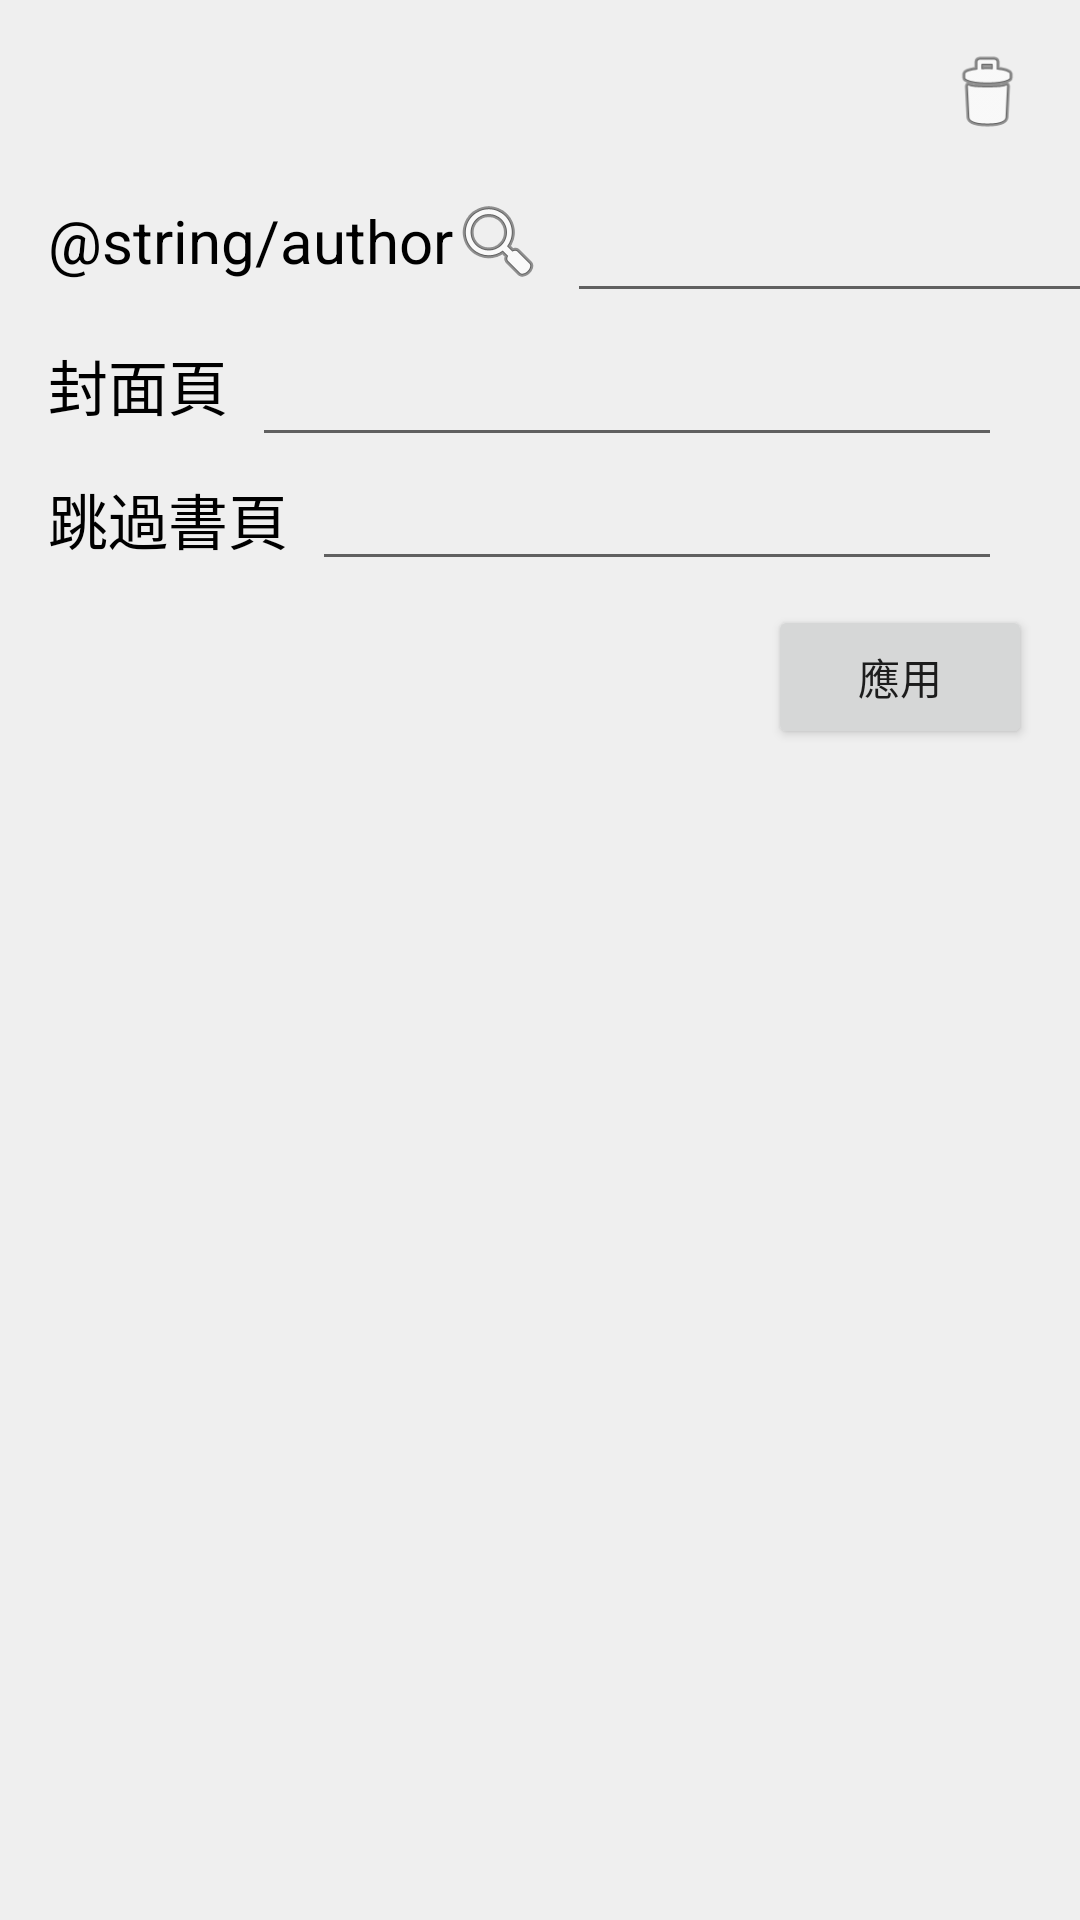

Screen size 1080x1920. Icon name, then its center in pixels as (x,y):
delete: (987,91)
search: (498,241)
